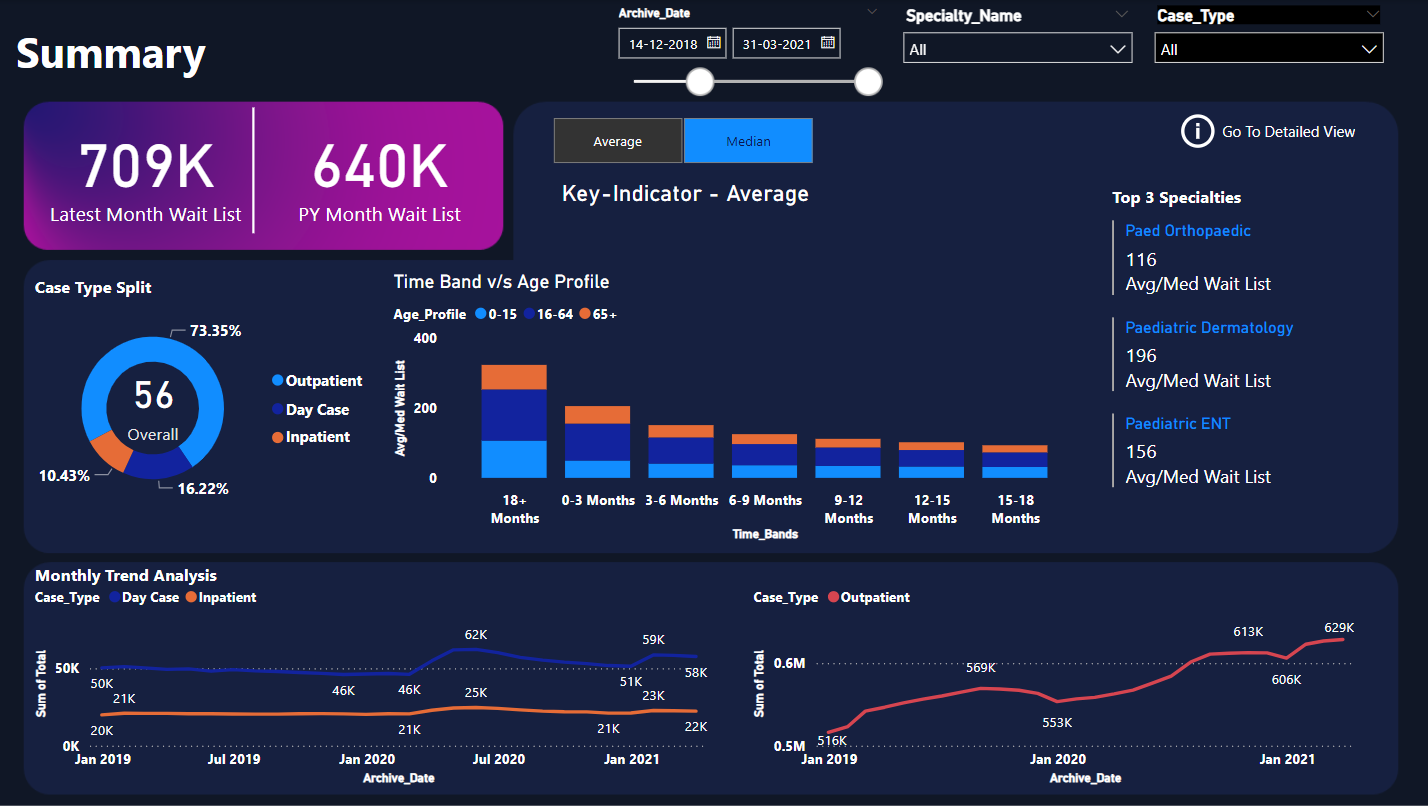

This screenshot's page, from the dashboard's own definition file:
{"tool":"powerbi","page":{"name":"Summary","canvas":[1280,720],"ordinal":0},"visuals":[{"type":"card","fields":{"Values":["All_Data.Latest Month Wait List"]},"box":[32,96,208,112],"z":0},{"type":"card","fields":{"Values":["All_Data.PY Latest Month Wait List"]},"box":[240,96,208,112],"z":1000},{"type":"slicer","fields":{"Values":["Calc_Method.Calc_Method"]},"box":[472.9,97.7,281.1,54.3],"z":2000},{"type":"donutChart","fields":{"Category":["All_Data.Case_Type"],"Y":["All_Data.Avg/Med Wait List"]},"box":[32.6,240.1,311.3,246.1],"z":3000},{"type":"columnChart","title":"Time Band v/s Age Profile ","fields":{"Category":["All_Data.Time_Bands"],"Y":["All_Data.Avg/Med Wait List"],"Series":["All_Data.Age_Profile"]},"box":[352.3,240.1,623.7,246.1],"z":4000},{"type":"multiRowCard","fields":{"Values":["All_Data.Specialty_Name","All_Data.Avg/Med Wait List"]},"box":[991.7,191.8,240.1,294.4],"z":5000},{"type":"card","fields":{"Values":["All_Data.No Data Left"]},"box":[176.1,576.5,296.7,92.9],"z":6000},{"type":"lineChart","fields":{"Category":["All_Data.Archive_Date"],"Y":["Sum(All_Data.Total)"],"Series":["All_Data.Case_Type"]},"box":[32,512,624,192],"z":7000},{"type":"card","fields":{"Values":["All_Data.No Data Right"]},"box":[787.5,576.5,296.7,92.9],"z":8000},{"type":"lineChart","fields":{"Category":["All_Data.Archive_Date"],"Y":["Sum(All_Data.Total)"],"Series":["All_Data.Case_Type"]},"box":[672,512,560,192],"z":9000},{"type":"slicer","fields":{"Values":["All_Data.Archive_Date"]},"box":[544,0,256,112],"z":10000},{"type":"slicer","fields":{"Values":["All_Data.Case_Type"]},"box":[1024,0,224,80],"z":11000},{"type":"slicer","fields":{"Values":["All_Data.Specialty_Name"]},"box":[800,0,224,80],"z":12000},{"type":"textbox","box":[16,16,272,64],"z":13000},{"type":"card","fields":{"Values":["All_Data.Avg/Med Wait List"]},"box":[96.5,319.7,91.7,79.6],"z":14000},{"type":"shape","box":[176,96,112,112],"z":15000},{"type":"textbox","box":[32,240,128,48],"z":16000},{"type":"textbox","box":[32,496,784,64],"z":17000},{"type":"textbox","box":[991.7,160.5,203.9,31.4],"z":18000},{"type":"card","fields":{"Values":["All_Data.Dynamic Value"]},"box":[423.5,136.3,393.3,72.4],"z":19000},{"type":"actionButton","box":[1052.9,96.5,164,39.8],"z":20000}]}

Visuals, with their boxes in screenshot pixels (x1, y1, x2, y2), scaled from the page's 1280x720 canvas onto the 1428x806 screenshot:
card - All_Data.Latest Month Wait List: locate(36, 107, 268, 233)
card - All_Data.PY Latest Month Wait List: locate(268, 107, 500, 233)
slicer - Calc_Method.Calc_Method: locate(528, 109, 841, 170)
donutChart - All_Data.Case_Type x All_Data.Avg/Med Wait List: locate(36, 269, 384, 544)
"Time Band v/s Age Profile " columnChart: locate(393, 269, 1089, 544)
multiRowCard - All_Data.Specialty_Name x All_Data.Avg/Med Wait List: locate(1106, 215, 1374, 544)
card - All_Data.No Data Left: locate(196, 645, 527, 749)
lineChart - All_Data.Archive_Date x Sum(All_Data.Total): locate(36, 573, 732, 788)
card - All_Data.No Data Right: locate(879, 645, 1210, 749)
lineChart - All_Data.Archive_Date x Sum(All_Data.Total): locate(750, 573, 1374, 788)
slicer - All_Data.Archive_Date: locate(607, 0, 893, 125)
slicer - All_Data.Case_Type: locate(1142, 0, 1392, 90)
slicer - All_Data.Specialty_Name: locate(893, 0, 1142, 90)
textbox: locate(18, 18, 321, 90)
card - All_Data.Avg/Med Wait List: locate(108, 358, 210, 447)
shape: locate(196, 107, 321, 233)
textbox: locate(36, 269, 178, 322)
textbox: locate(36, 555, 910, 627)
textbox: locate(1106, 180, 1334, 215)
card - All_Data.Dynamic Value: locate(472, 153, 911, 234)
actionButton: locate(1175, 108, 1358, 153)
